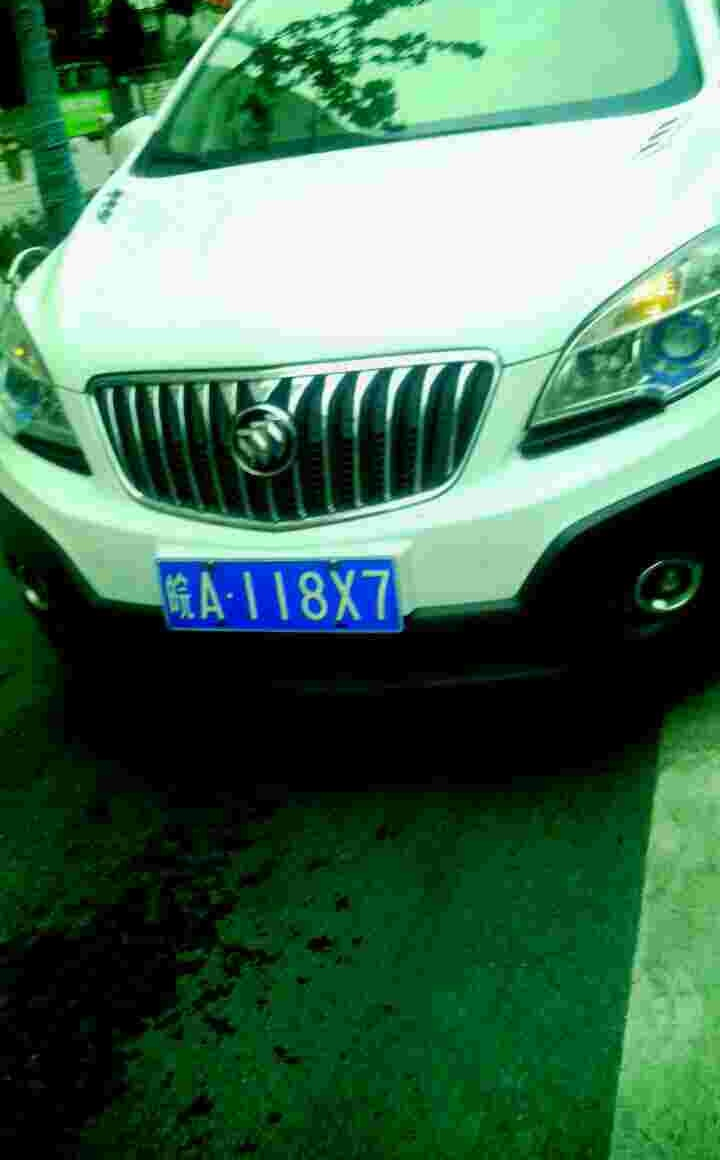license_plate: (162, 554, 402, 643)
